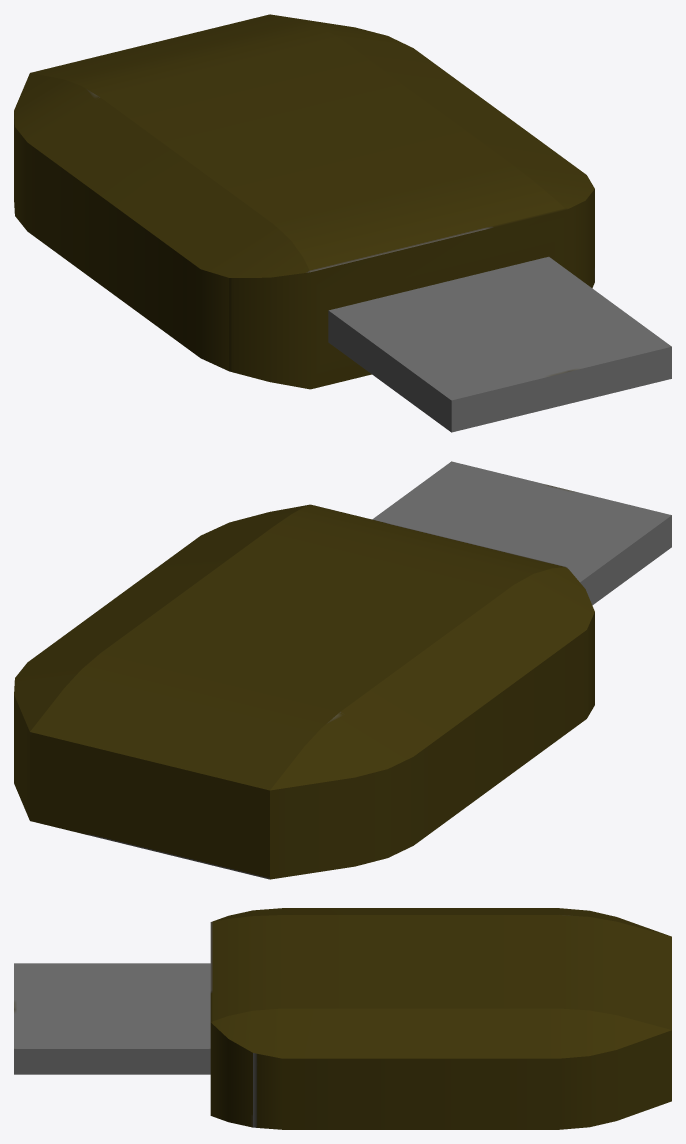
The model's file is USB.fbx.
The picture shows the model from 3 angles, top to bottom: view 1: azimuth 30°, elevation 25°; view 2: azimuth 150°, elevation 25°; view 3: azimuth 270°, elevation 25°; orthographic projection. The views are drawn at different scales.
Visible parts, largest first — view 1: USB; view 2: USB; view 3: USB.
Boxes of the visible parts, x1,y1,x2,y2 form: USB: (14, 14, 671, 432); USB: (14, 461, 671, 879); USB: (14, 908, 671, 1129).
Size of the model in its own units: 62.33 by 22.11 by 115.
